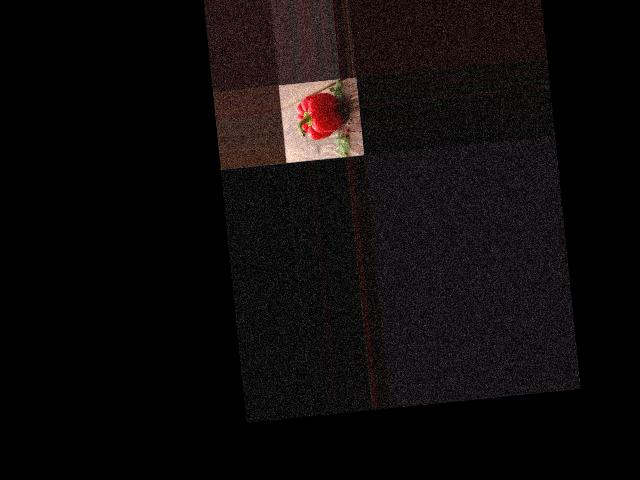bell_pepper: (290, 87, 346, 144)
